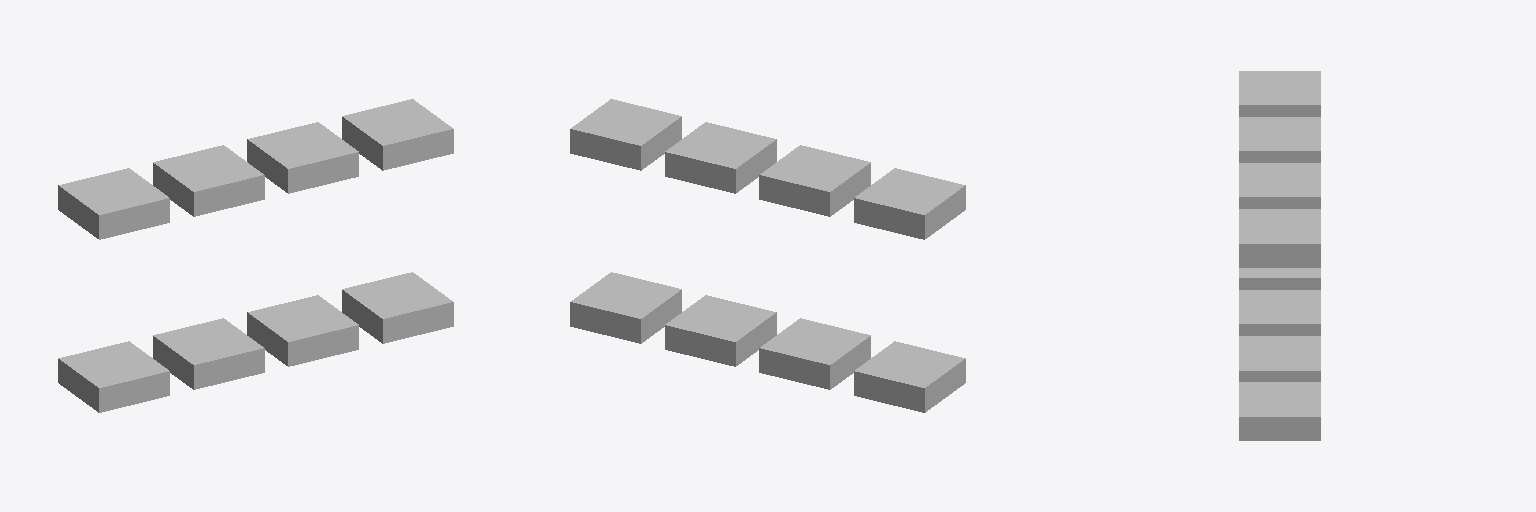
The model's file is Spice Rack - Lids.obj.
The picture shows the model from 3 angles: view 1: azimuth 30°, elevation 25°; view 2: azimuth 150°, elevation 25°; view 3: azimuth 270°, elevation 25°; orthographic projection.
Parts seen in each view (by area): view 1: object 1; view 2: object 1; view 3: object 1.
Boxes of the visible parts, x1,y1,x2,y2 form: object 1: [58, 99, 453, 412]; object 1: [570, 99, 965, 412]; object 1: [1239, 71, 1320, 440].
Bounding box in the file's own units: 1.5 × 0.8 × 0.3.